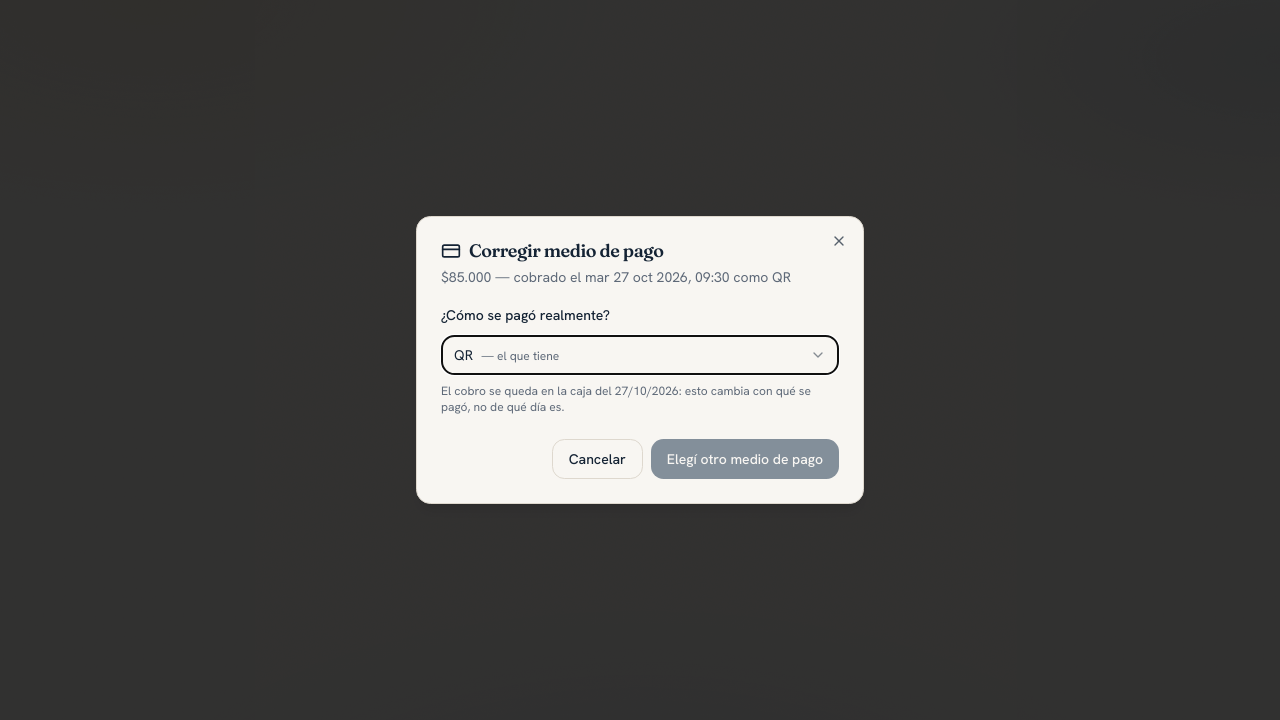
Test case: el diálogo de corregir medio de pago › pide confirmar antes de tocar la plata
This screenshot has width=1280, height=720.
Click the dropdown at [520, 356], box left=441, top=335, right=839, bottom=375
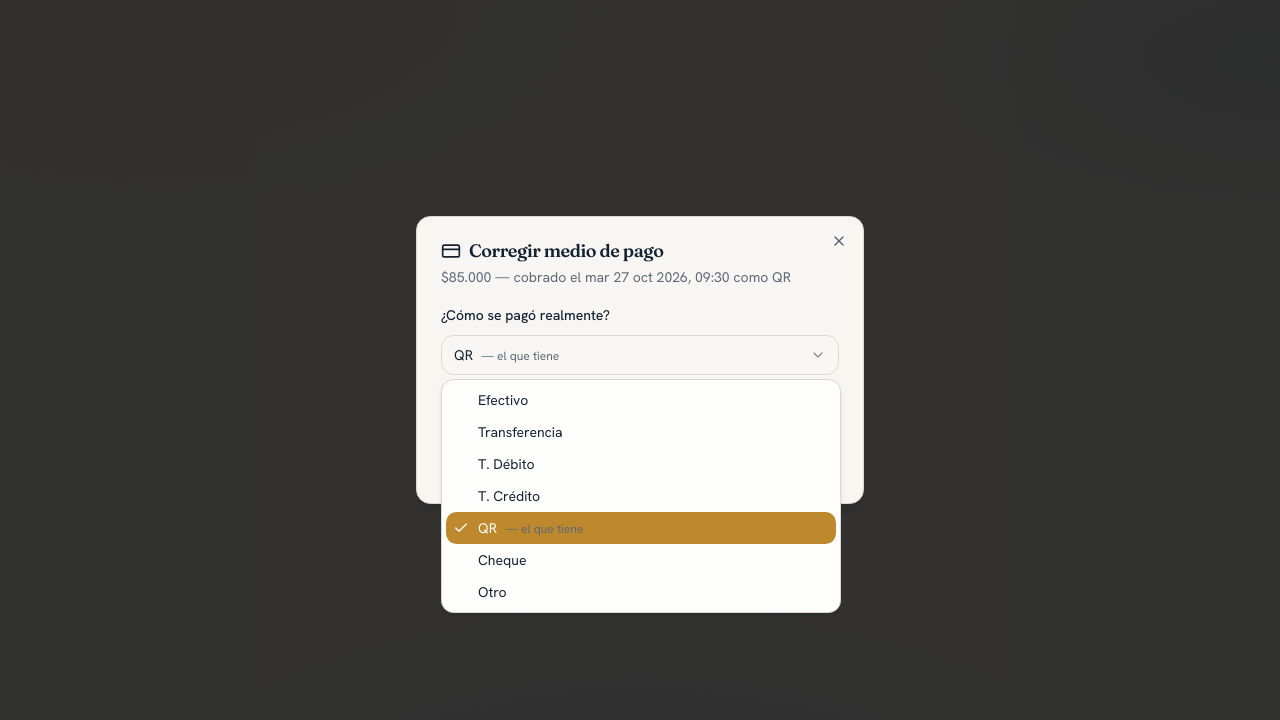
Click the option "Efectivo" at [503, 400], box left=478, top=391, right=528, bottom=409
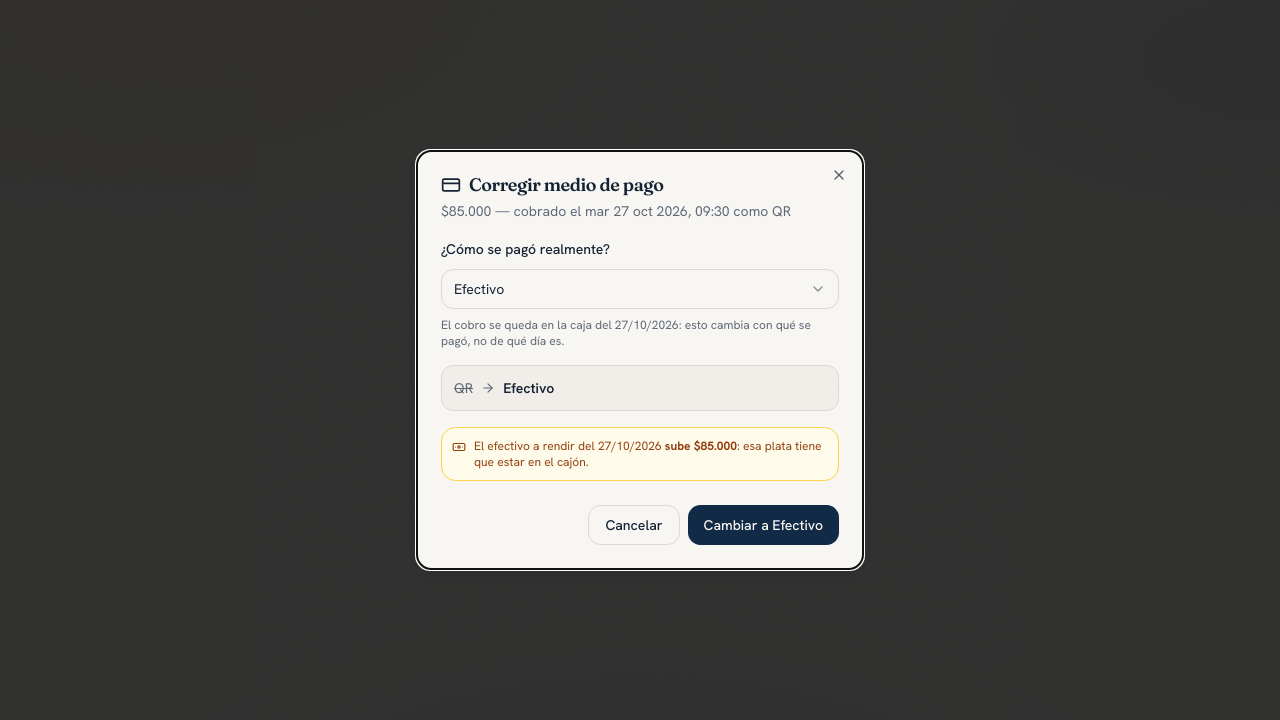
Click the button "Cambiar a Efectivo" at [763, 525], box left=688, top=505, right=839, bottom=545
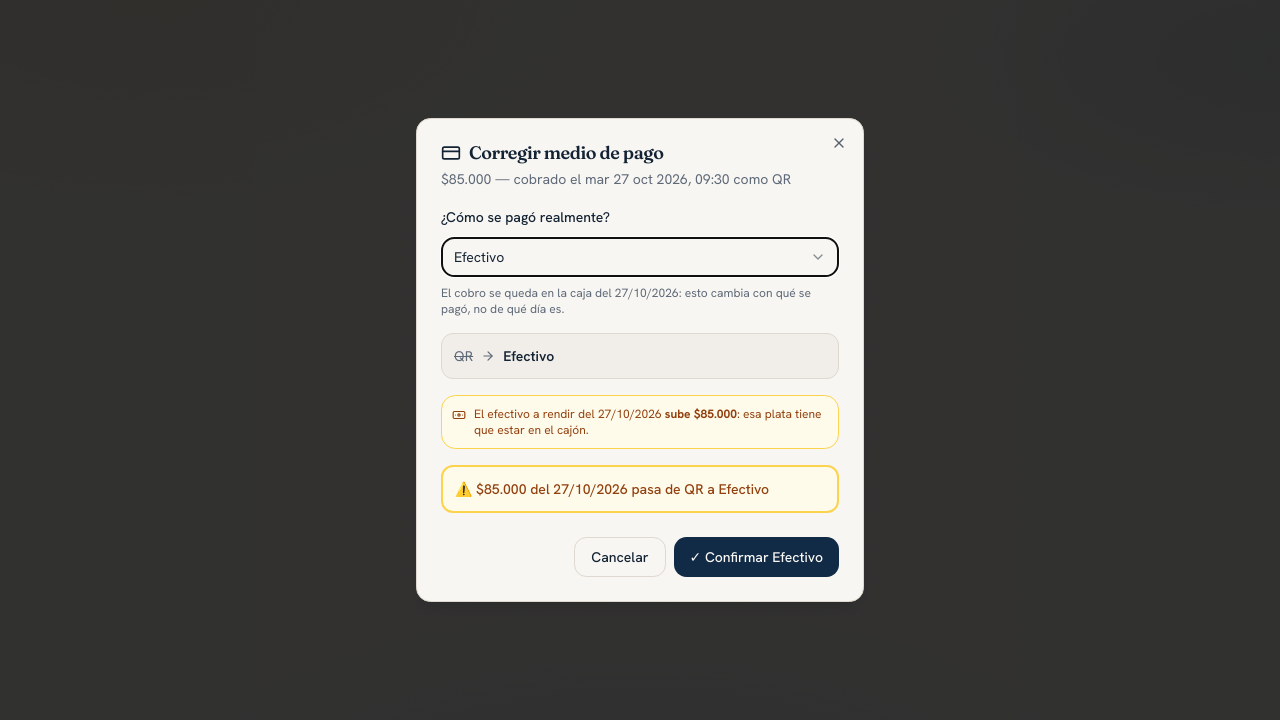
Check: the button "✓ Confirmar Efectivo" is shown, box left=674, top=537, right=839, bottom=577
